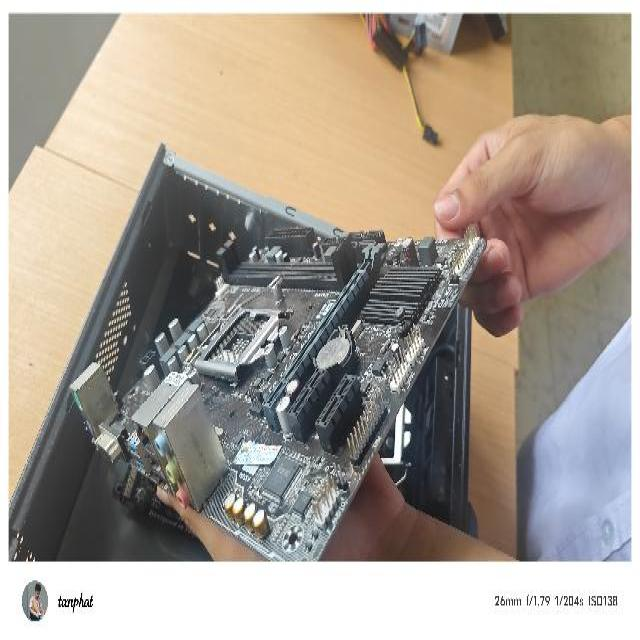Mainboard: (63, 209, 489, 563)
